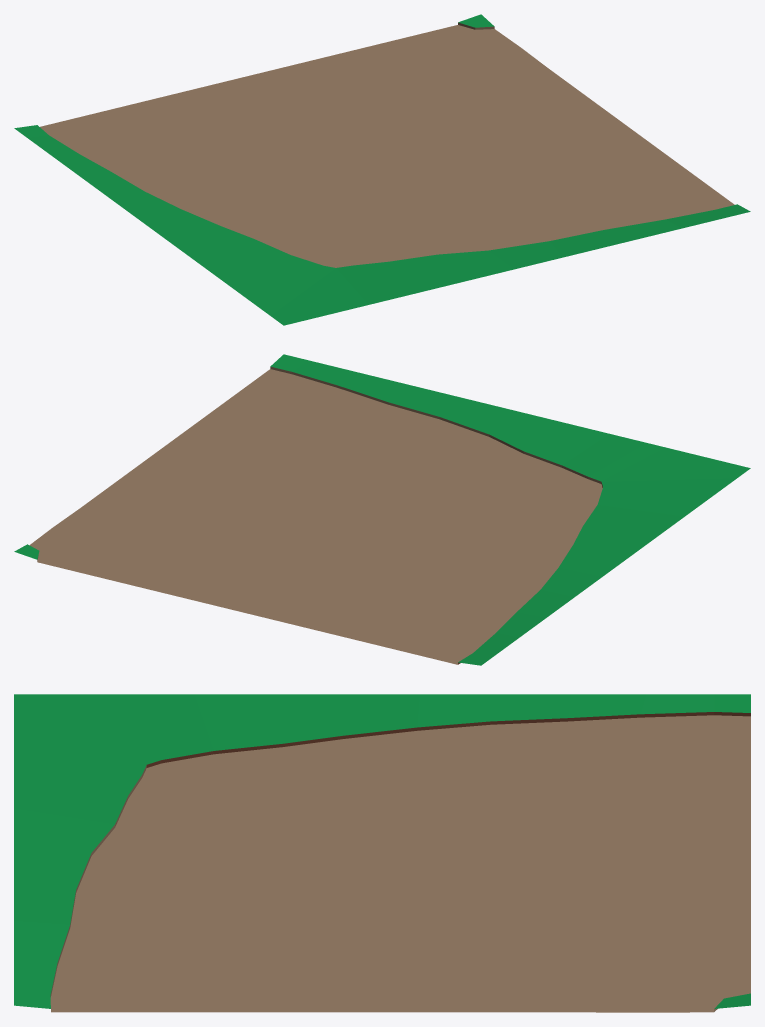
Rendered from Gravel_bend_S.fbx.
The picture shows the model from 3 angles, top to bottom: view 1: azimuth 30°, elevation 25°; view 2: azimuth 150°, elevation 25°; view 3: azimuth 270°, elevation 25°; orthographic projection. The views are drawn at different scales.
Parts seen in each view (by area): view 1: Plane; view 2: Plane; view 3: Plane.
Part boxes in pixels (<box>): Plane: <box>14,14,750,325</box>; Plane: <box>14,354,750,665</box>; Plane: <box>14,694,750,1012</box>.
Size of the model in its own units: 20.03 by 0.2 by 20.
